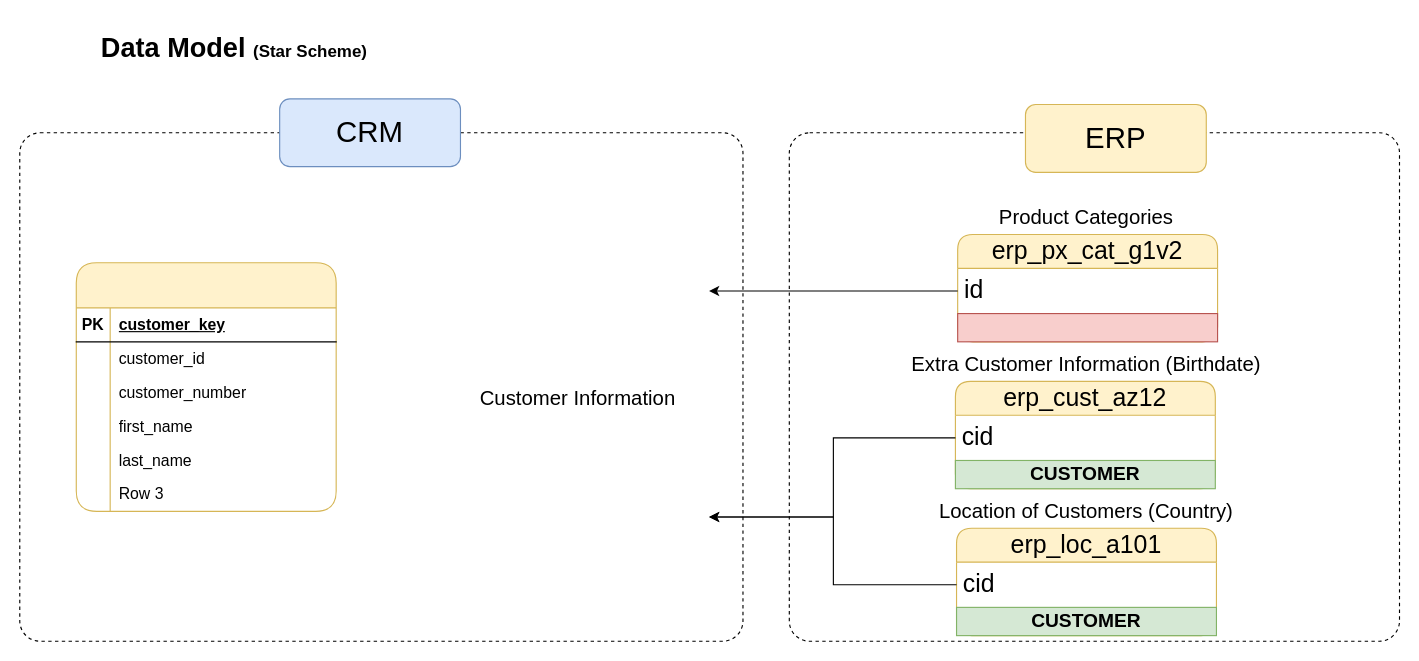
The diagram is 1419 pixels wide and 661 high, and some of its shapes have lost their labels. The shapes that lost their labels are listed below. From the top down, each one's box as (x1, y1, x2, y2) in pixels, then its label:
(957, 312, 1218, 342): PRODUCT
(75, 262, 336, 511): gold.dim_customers
